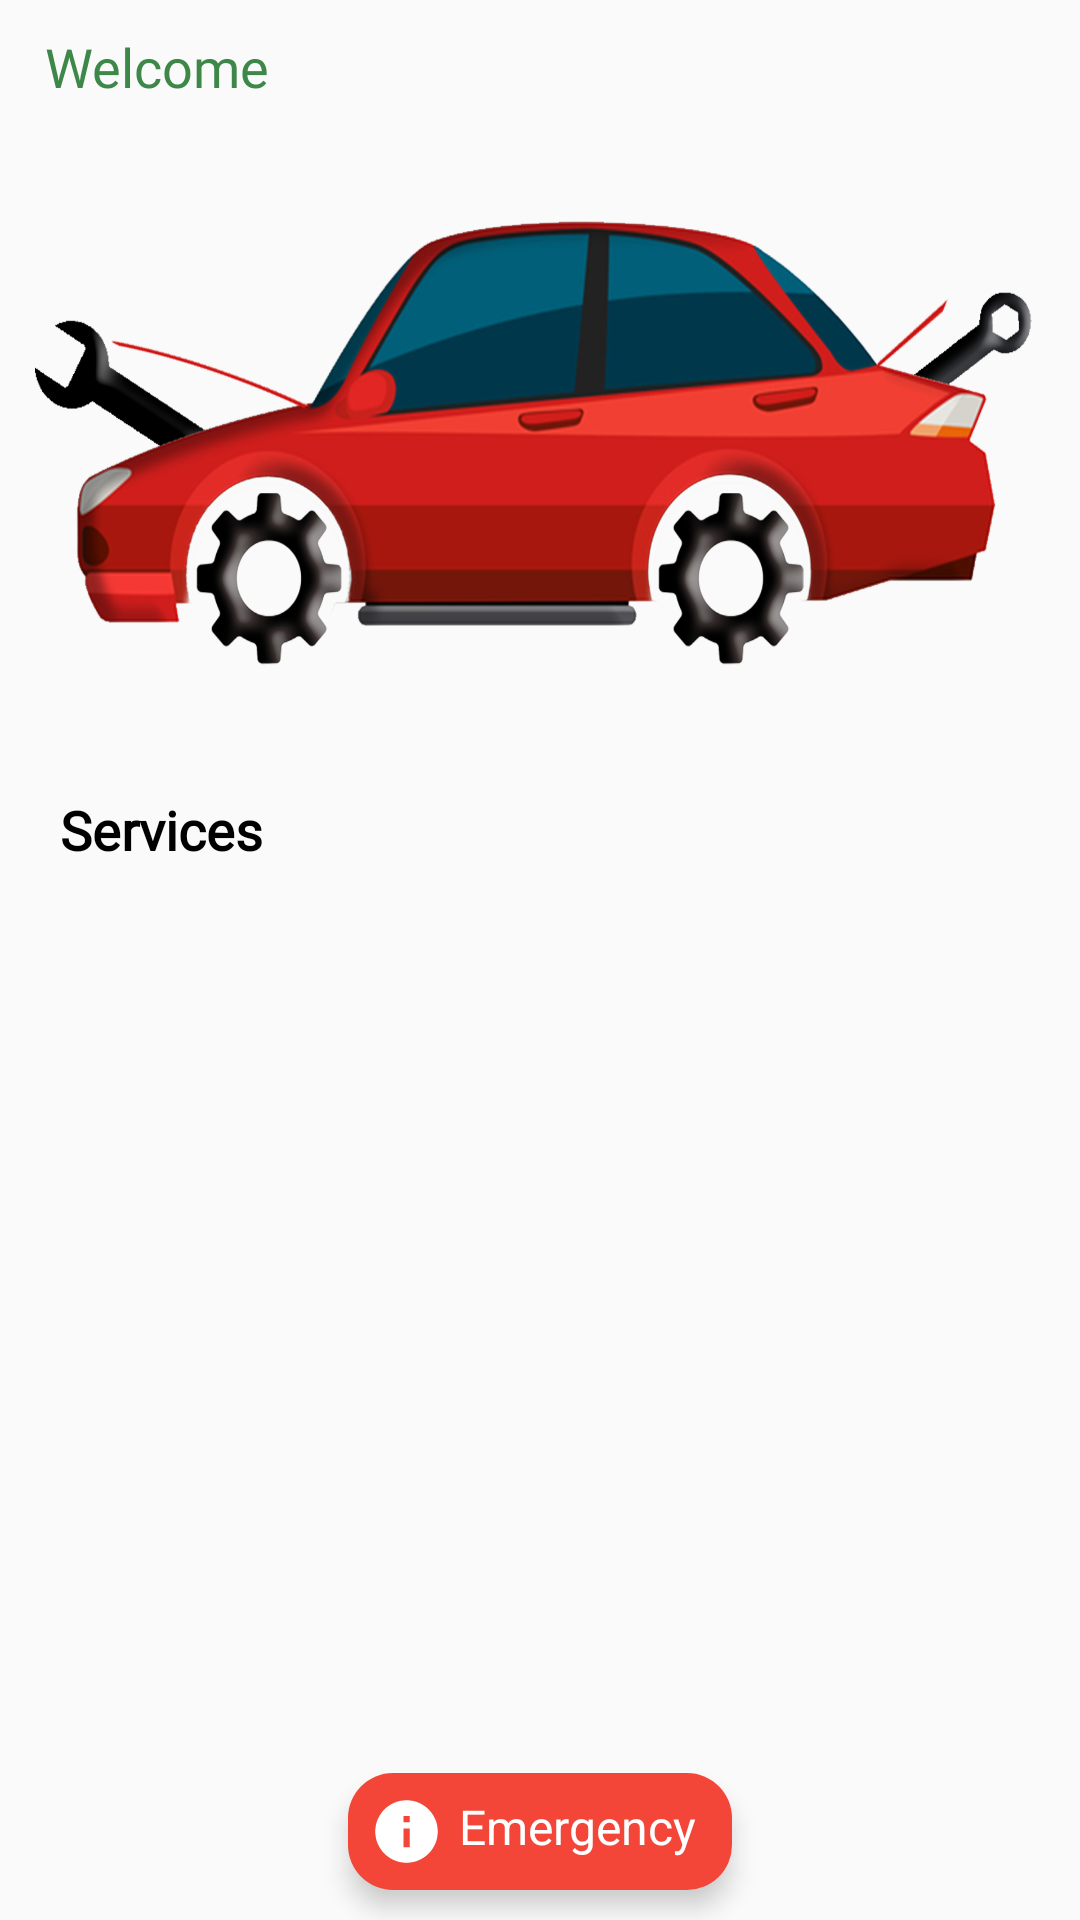

Screen size 1080×1920. Icon name, then its center in pixels as [x,y]:
info: [406,1831]
